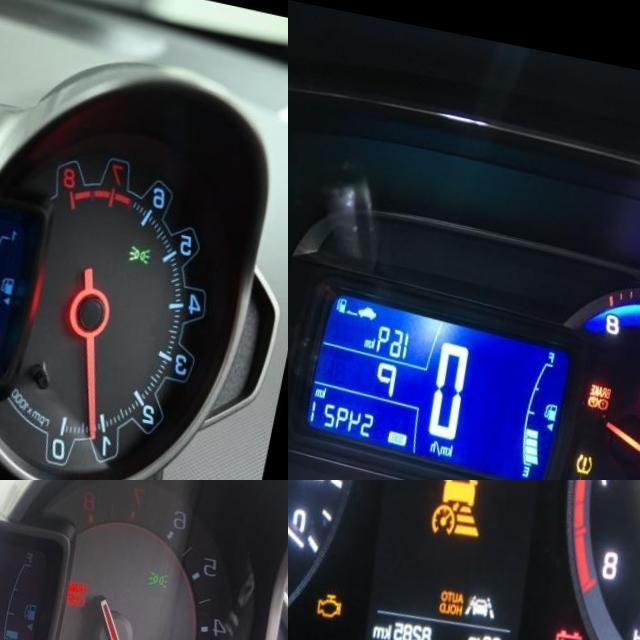LaneCenteringOff: (484, 579, 517, 606)
SideLamp: (140, 224, 164, 244), (160, 550, 182, 570)
